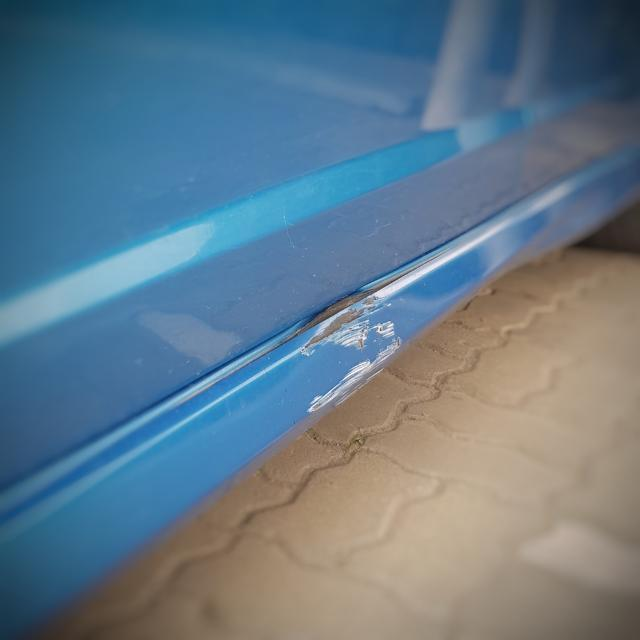scratch: (294, 286, 407, 421)
